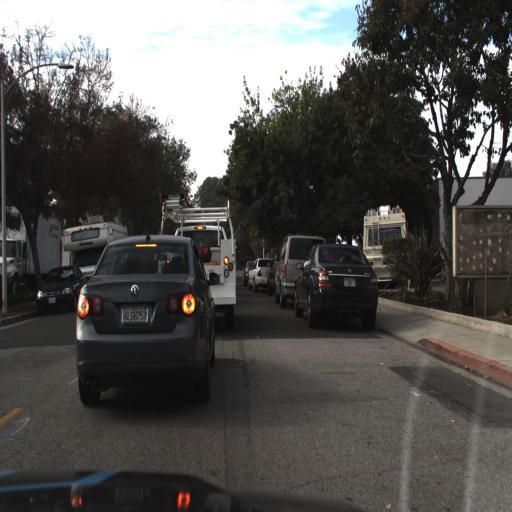car: (75, 238, 213, 399), (291, 241, 378, 325), (200, 195, 243, 332), (58, 214, 131, 275), (362, 206, 406, 282), (273, 236, 321, 301), (36, 262, 83, 309), (271, 230, 295, 310), (246, 254, 271, 288)
truck: (173, 211, 235, 319), (348, 195, 409, 292), (1, 206, 62, 284), (70, 222, 110, 291)
